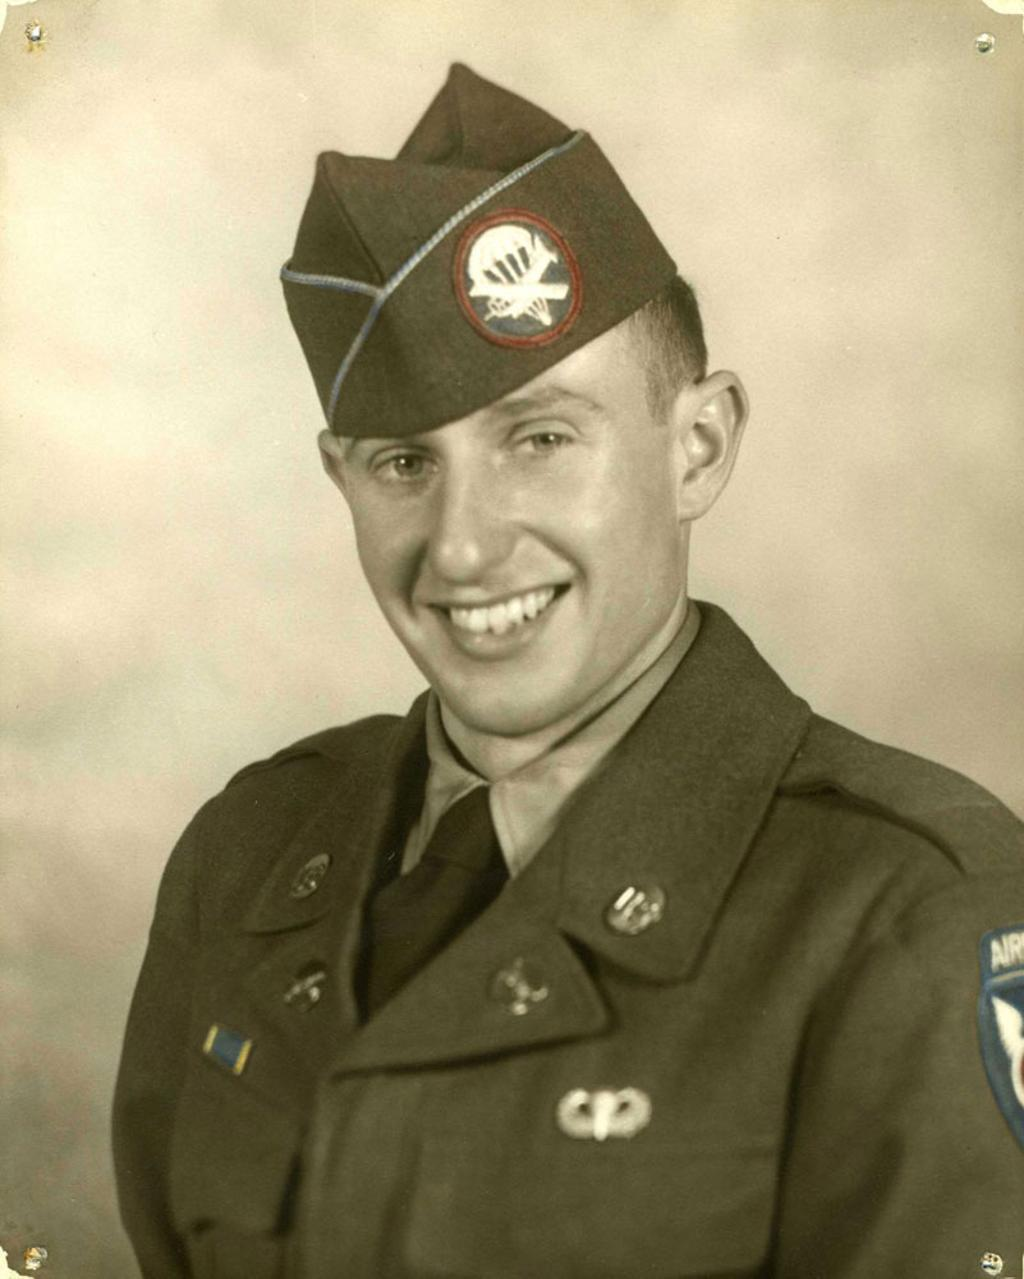face: (353, 358, 675, 735)
